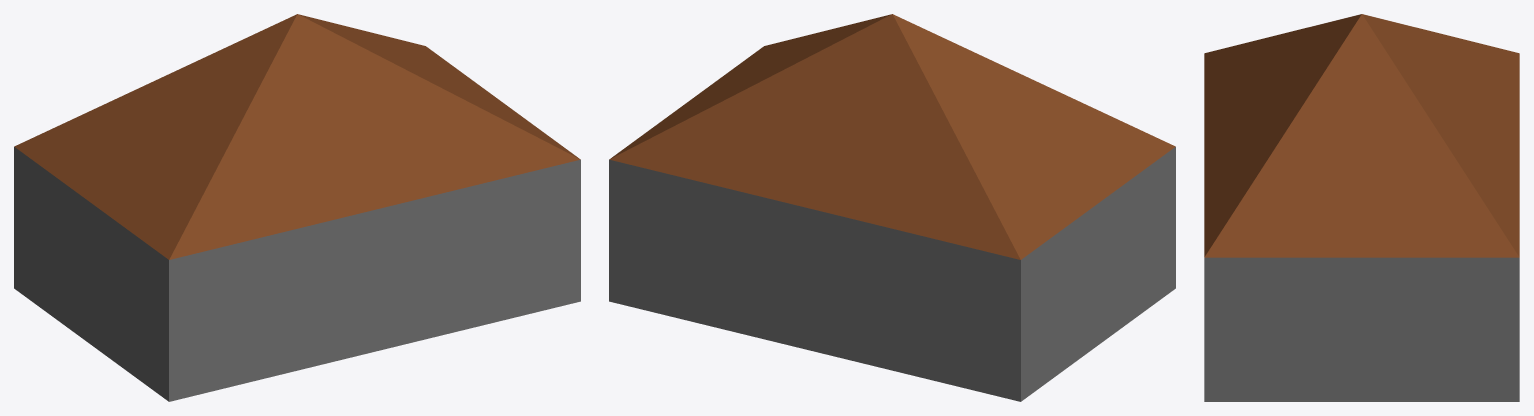
Rendered from House2.fbx.
The picture shows the model from 3 angles, left to right: view 1: azimuth 30°, elevation 25°; view 2: azimuth 150°, elevation 25°; view 3: azimuth 270°, elevation 25°; orthographic projection.
Visible parts, largest first — view 1: pCube7; view 2: pCube7; view 3: pCube7.
Part boxes in pixels (bbox=[...]): pCube7: bbox=[14, 14, 580, 401]; pCube7: bbox=[609, 14, 1175, 401]; pCube7: bbox=[1204, 14, 1519, 401].
Size of the model in its own units: 3.07 by 2 by 2.
